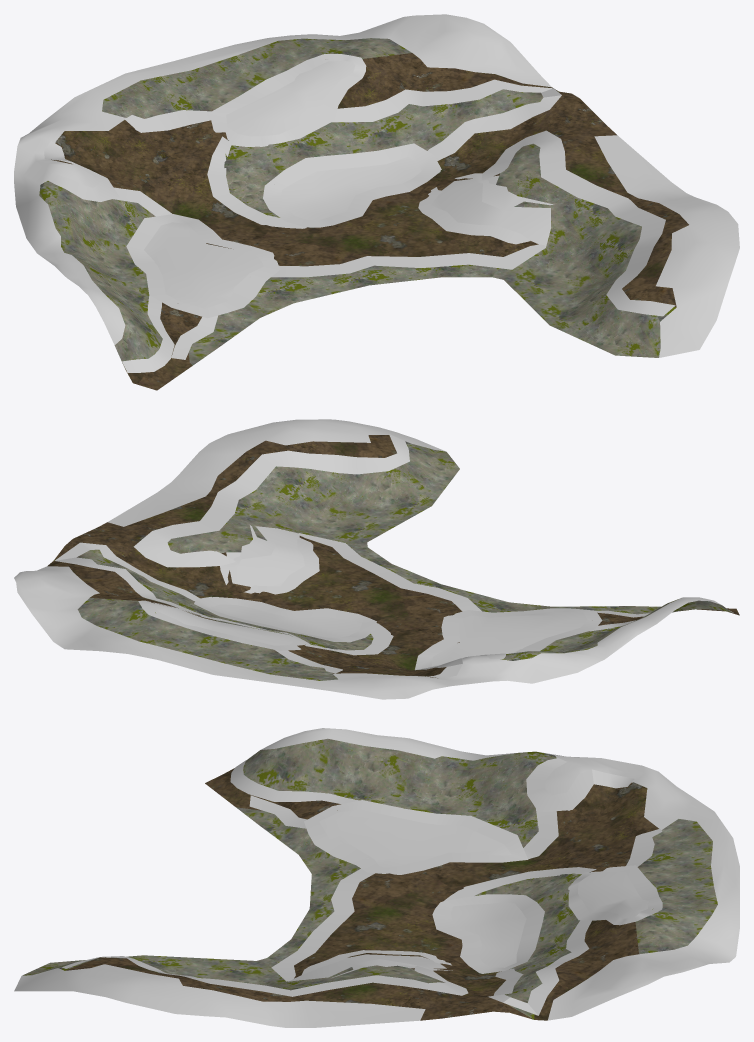
The model's file is Terrain_Optimised.fbx.
3 views of the same model, one above another, from view 1: azimuth 30°, elevation 25°; view 2: azimuth 150°, elevation 25°; view 3: azimuth 270°, elevation 25° (orthographic). The views are drawn at different scales.
Visible parts, largest first — view 1: OptimisedTerrain1, DirtEdge7, DirtEdge6, GrassEdge2, GrassEdge4, GrassEdge1, DirtEdge3, GrassEdge3, DirtEdge4, GrassEdge5, DirtEdge2, DirtEdge5 (+2 smaller); view 2: OptimisedTerrain1, DirtEdge7, GrassEdge4, GrassEdge2, GrassEdge3, DirtEdge6, DirtEdge3, GrassEdge1, DirtEdge4; view 3: OptimisedTerrain1, GrassEdge4, GrassEdge2, DirtEdge7, GrassEdge5, DirtEdge6, DirtEdge3, GrassEdge1, DirtEdge2, DirtEdge4, GrassEdge3, DirtEdge8 (+2 smaller).
Part boxes in pixels (left/top/right/bottom): OptimisedTerrain1: left=14, top=14, right=739, bottom=390; DirtEdge7: left=481, top=130, right=675, bottom=316; DirtEdge6: left=332, top=79, right=561, bottom=160; GrassEdge2: left=263, top=143, right=441, bottom=227; GrassEdge4: left=126, top=214, right=280, bottom=318; GrassEdge1: left=209, top=54, right=366, bottom=146; DirtEdge3: left=271, top=244, right=546, bottom=277; GrassEdge3: left=418, top=173, right=553, bottom=244; DirtEdge4: left=207, top=136, right=306, bottom=228; GrassEdge5: left=44, top=141, right=119, bottom=201; DirtEdge2: left=122, top=295, right=174, bottom=372; DirtEdge5: left=124, top=110, right=211, bottom=132; OptimisedTerrain1: left=14, top=419, right=739, bottom=699; DirtEdge7: left=133, top=434, right=409, bottom=567; GrassEdge4: left=415, top=608, right=602, bottom=669; GrassEdge2: left=194, top=596, right=376, bottom=642; GrassEdge3: left=220, top=525, right=319, bottom=594; DirtEdge6: left=54, top=542, right=219, bottom=620; DirtEdge3: left=298, top=533, right=481, bottom=611; GrassEdge1: left=138, top=600, right=310, bottom=650; DirtEdge4: left=305, top=623, right=393, bottom=655; OptimisedTerrain1: left=14, top=728, right=739, bottom=1027; GrassEdge4: left=304, top=800, right=528, bottom=874; GrassEdge2: left=432, top=894, right=544, bottom=973; DirtEdge7: left=62, top=956, right=468, bottom=996; GrassEdge5: left=526, top=758, right=634, bottom=812; DirtEdge6: left=488, top=920, right=591, bottom=1015; DirtEdge3: left=271, top=868, right=374, bottom=981; GrassEdge1: left=568, top=865, right=662, bottom=925; DirtEdge2: left=230, top=760, right=359, bottom=804; DirtEdge4: left=443, top=867, right=596, bottom=901; GrassEdge3: left=302, top=950, right=452, bottom=977; DirtEdge8: left=523, top=809, right=558, bottom=859.
Size of the model in its own units: 4822 by 533 by 5314.
